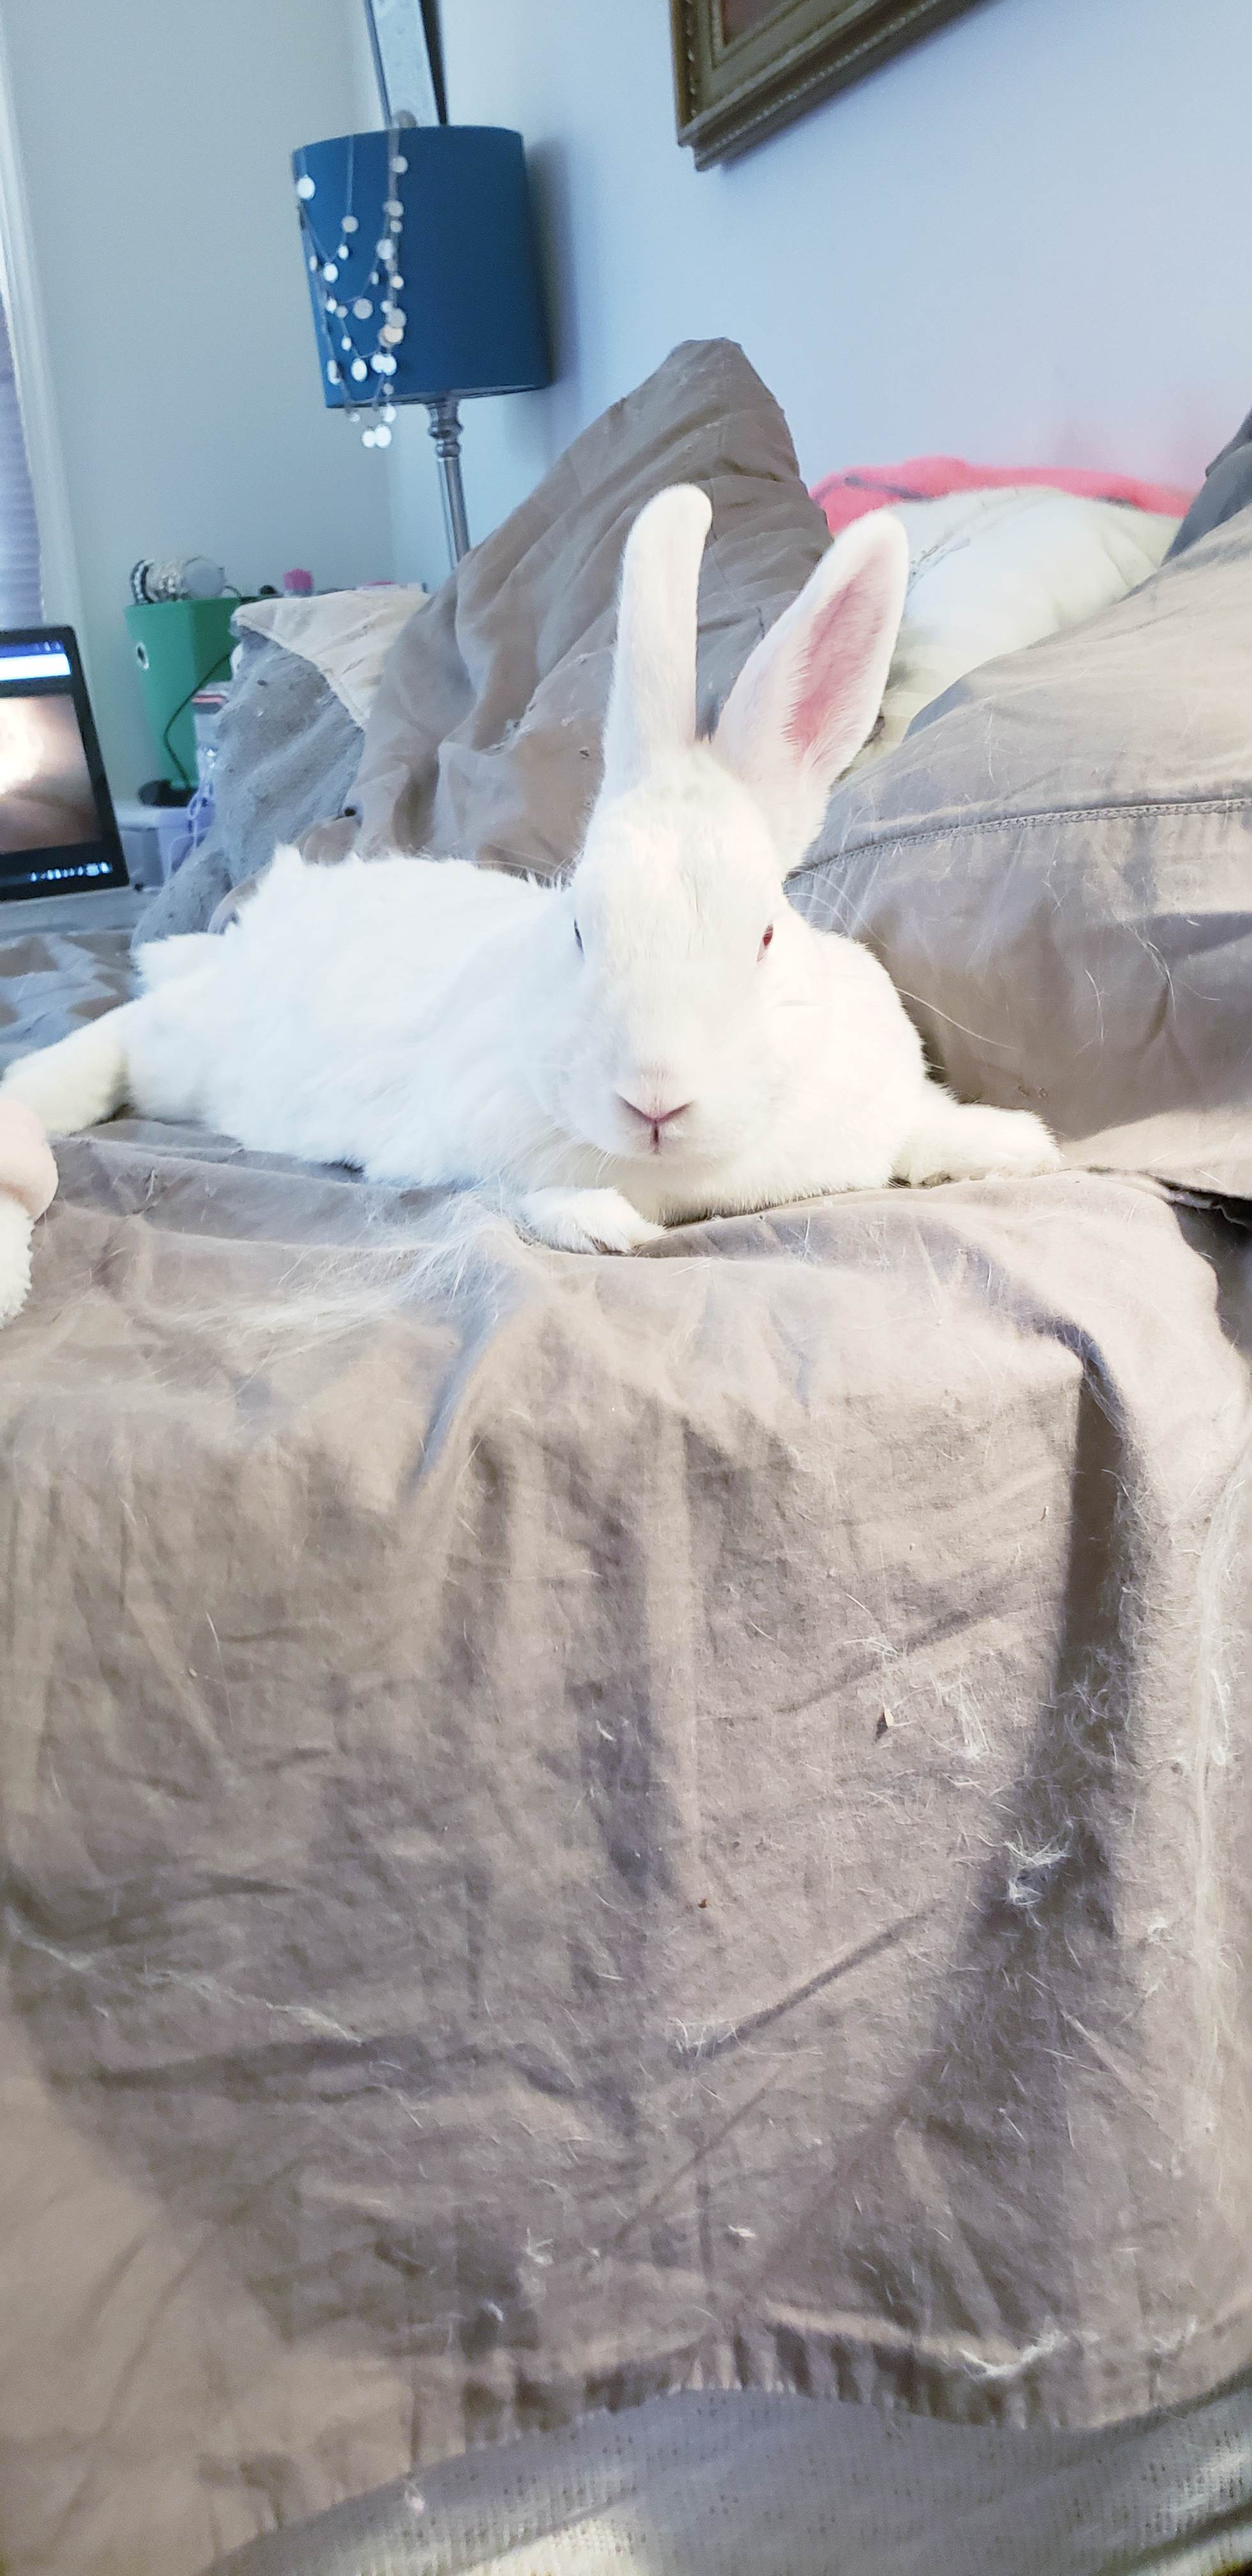bunny: (18, 453, 1093, 1296)
